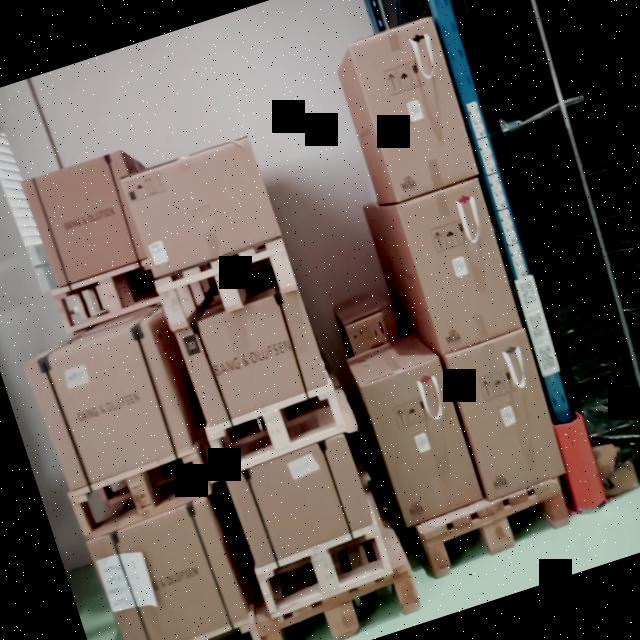box: (27, 330, 190, 493), (354, 23, 479, 200), (120, 138, 280, 276), (399, 180, 523, 347), (446, 334, 570, 498), (92, 510, 245, 640), (363, 364, 485, 524), (228, 442, 374, 564), (180, 300, 328, 420)
